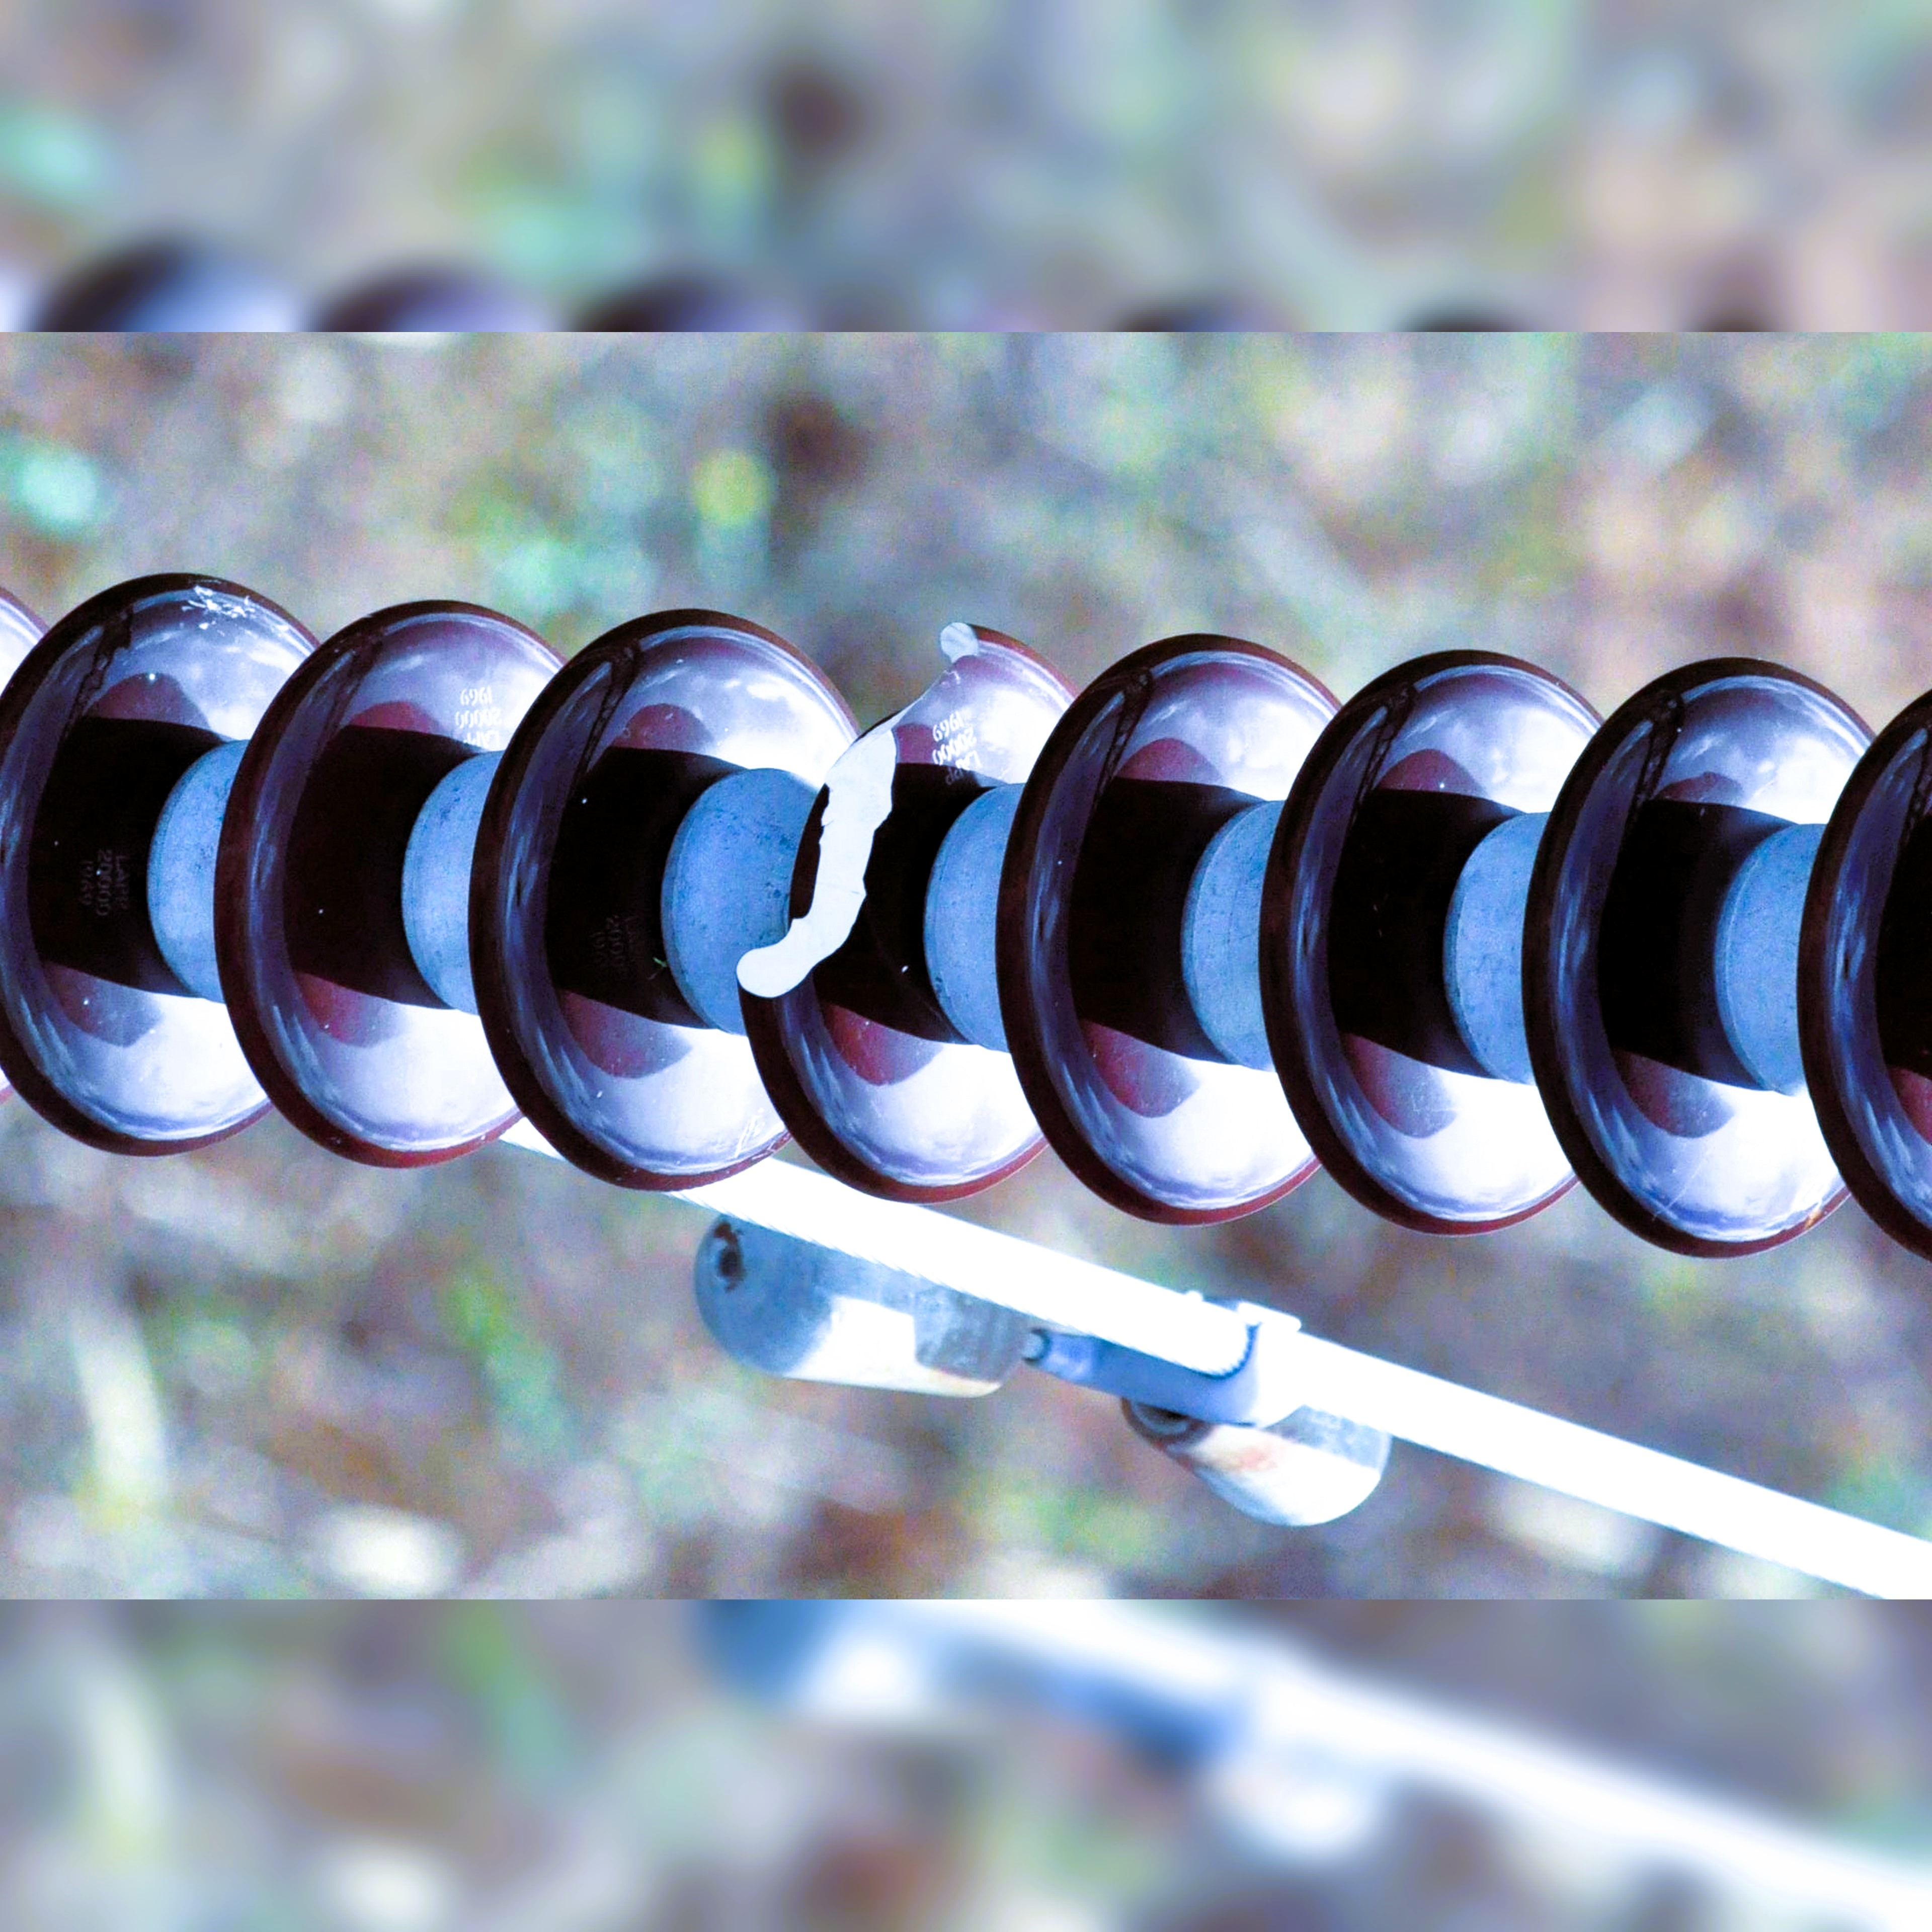insulator breakage: (729, 602, 1077, 1219)
